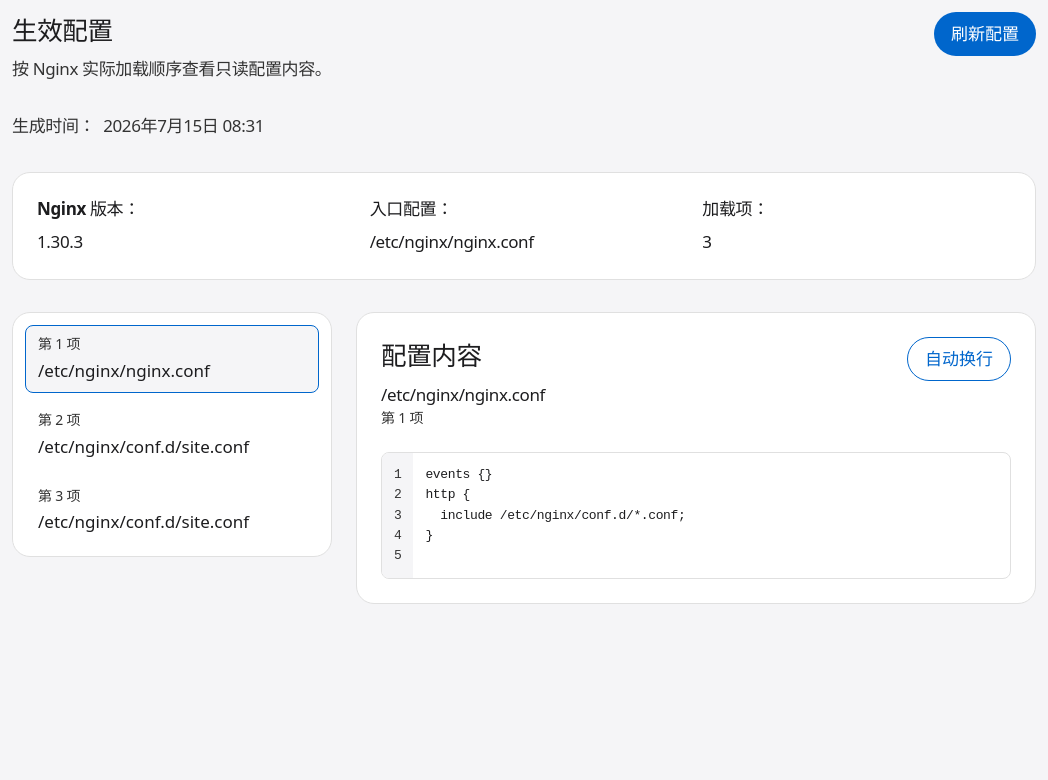
EffectiveConfigView › keeps only the in-memory last success and marks it stale after refresh fails
Click the button with class "effective-config__refresh" at {"x": 985, "y": 34}, box 934,12 -> 1036,56
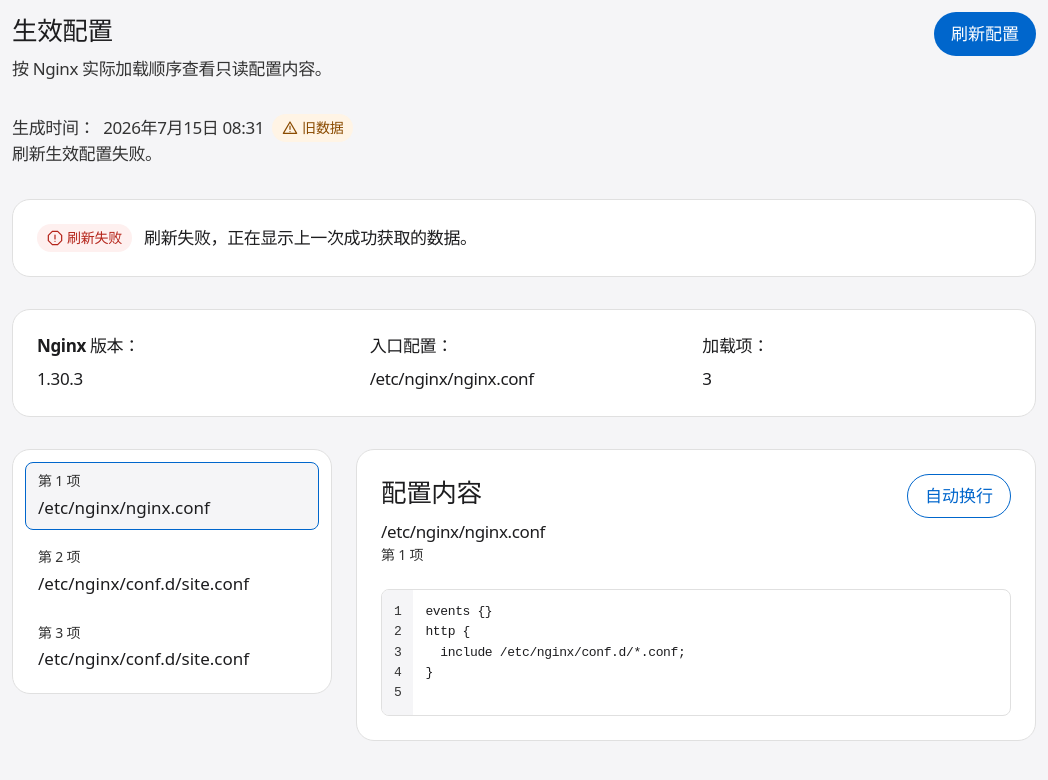
Expected: the text "旧数据" is shown, 302,118 -> 343,138
Expected: the text "刷新失败，正在显示上一次成功获取的数据。" is shown, 144,226 -> 477,251
